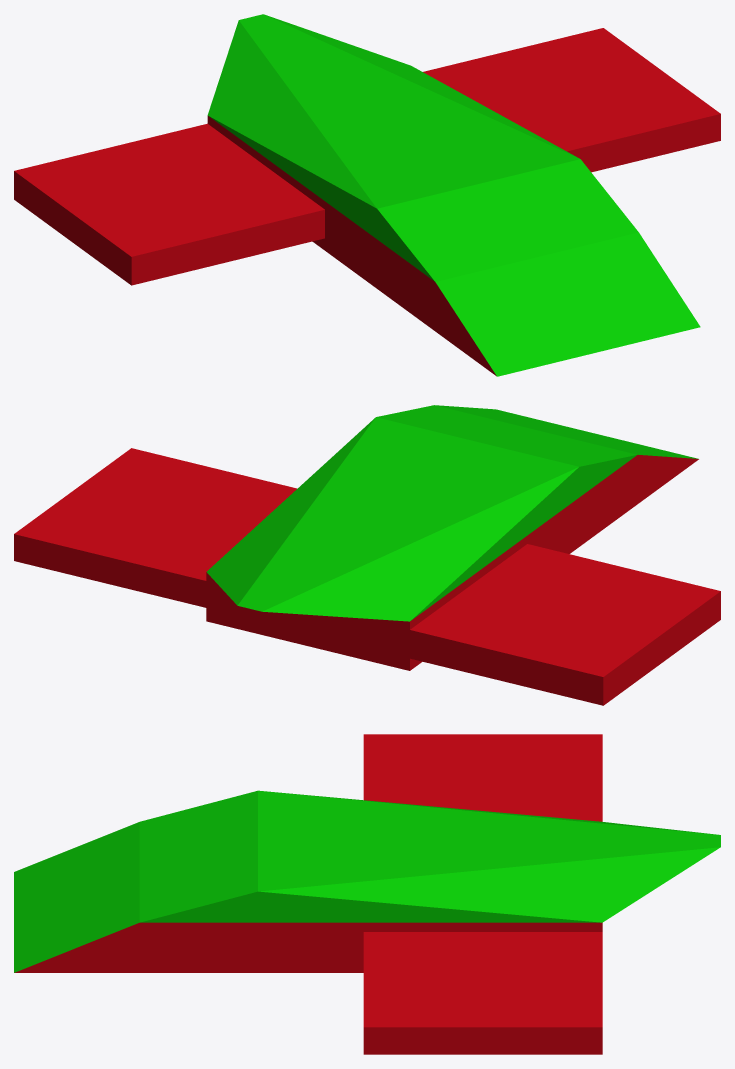
File: spaceship.obj
3 renders of one model, top to bottom at view 1: azimuth 30°, elevation 25°; view 2: azimuth 150°, elevation 25°; view 3: azimuth 270°, elevation 25°, orthographic.
Parts seen in each view (by area): view 1: Cube; view 2: Cube; view 3: Cube.
Part boxes in pixels (left/top/right/bottom): Cube: left=14, top=14, right=720, bottom=376; Cube: left=14, top=405, right=720, bottom=705; Cube: left=14, top=734, right=720, bottom=1054.
Size of the model in its own units: 17.69 by 2.3 by 18.09.
